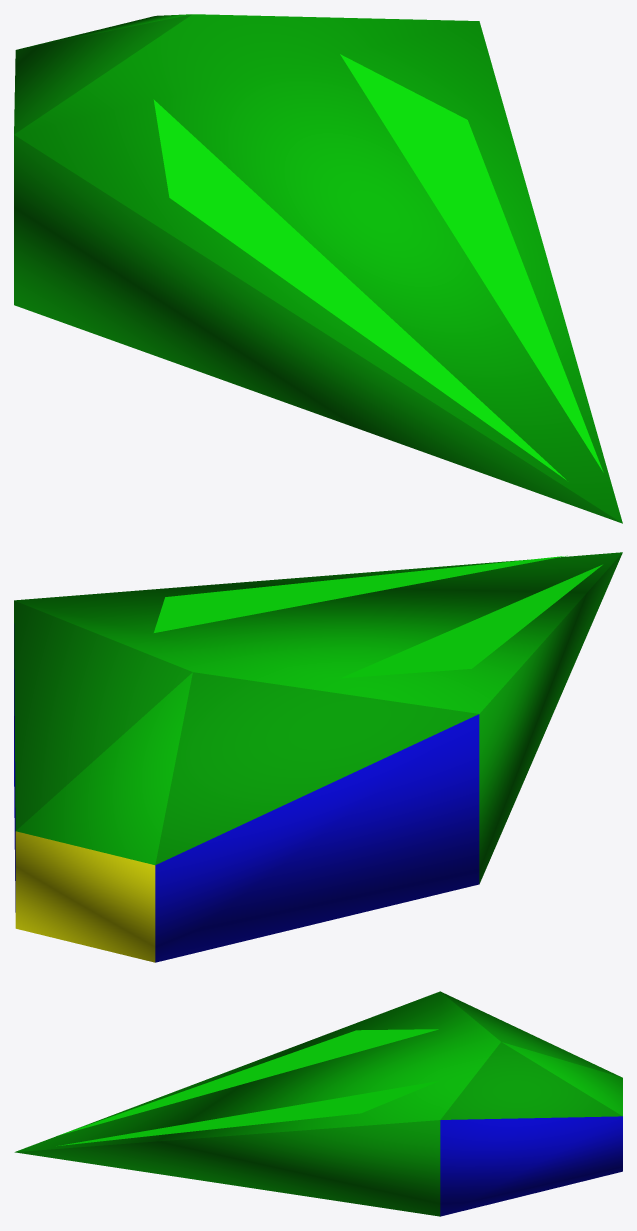
Rendered from ferdelance.fbx.
The picture shows the model from 3 angles, top to bottom: view 1: azimuth 30°, elevation 25°; view 2: azimuth 150°, elevation 25°; view 3: azimuth 270°, elevation 25°; orthographic projection. The views are drawn at different scales.
Visible parts, largest first — view 1: Ship_None; view 2: Ship_None; view 3: Ship_None.
Part boxes in pixels (x1,y1,x2,y2): Ship_None: (14,14,622,523); Ship_None: (14,552,622,962); Ship_None: (14,991,622,1216).
Bounding box in the file's own units: 1 × 0.4048 × 2.
